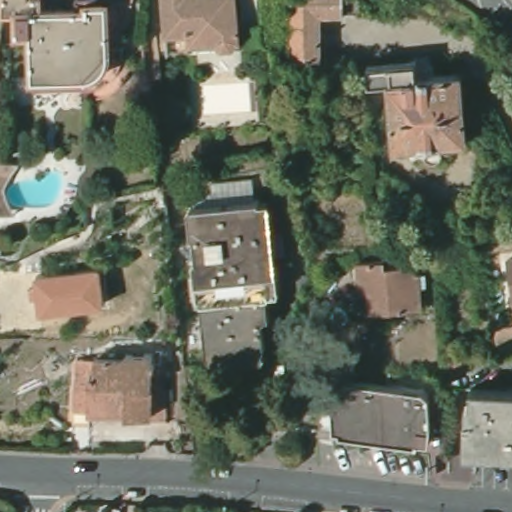pool: (5, 167, 68, 214)
